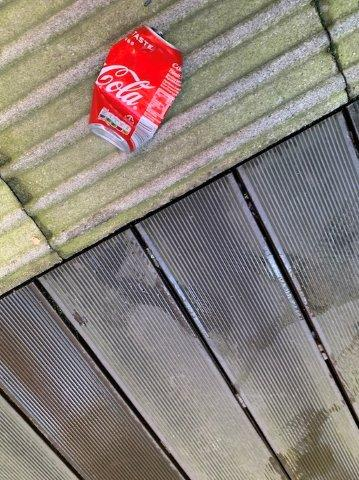kaleng: (89, 26, 182, 152)
